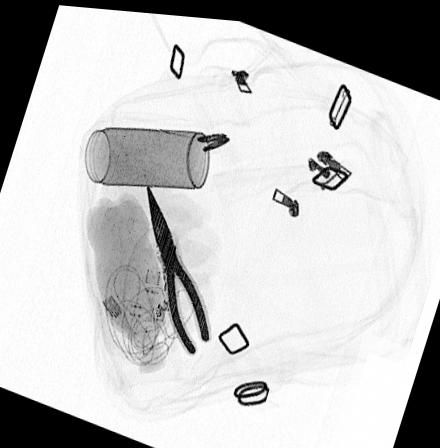Pliers: (145, 179, 212, 352)
